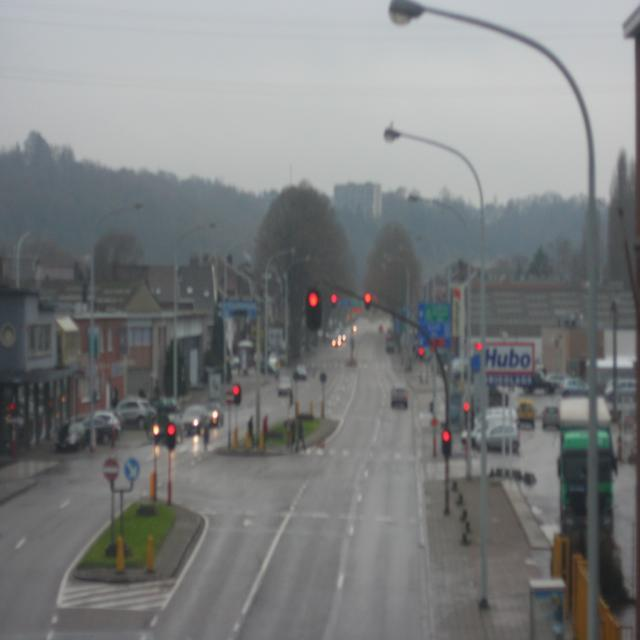traffic light: (305, 292, 322, 329), (440, 430, 453, 455), (165, 425, 177, 448)
